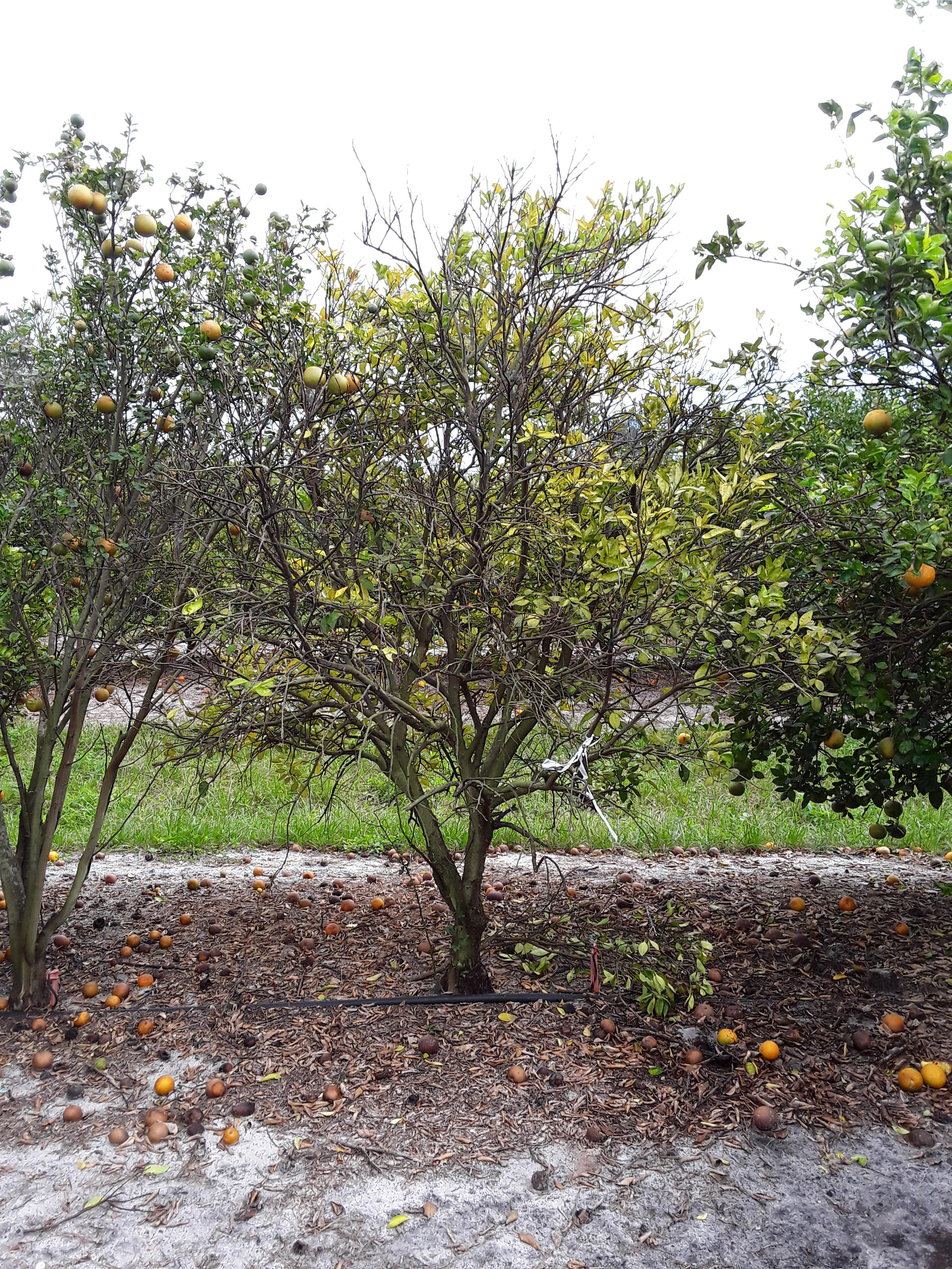fruit_on_ground: (859, 406, 893, 445), (903, 560, 938, 592), (66, 178, 94, 212), (133, 210, 159, 240), (822, 725, 849, 753), (876, 735, 902, 763), (88, 191, 114, 216), (326, 372, 350, 399), (93, 392, 119, 416), (301, 361, 325, 387), (171, 211, 193, 237), (156, 257, 178, 282), (155, 413, 178, 436), (242, 462, 271, 480), (240, 245, 263, 267), (200, 317, 221, 341), (45, 401, 65, 426), (343, 370, 361, 396), (97, 537, 120, 557), (882, 799, 905, 819), (355, 505, 378, 524), (0, 256, 18, 280), (888, 821, 908, 841), (714, 668, 733, 689), (868, 821, 889, 840), (198, 344, 220, 362), (833, 594, 856, 611), (1, 176, 22, 194), (0, 785, 15, 810), (15, 456, 32, 478), (806, 788, 829, 804), (70, 107, 86, 130), (146, 384, 165, 403), (728, 779, 747, 798), (844, 791, 863, 810), (2, 185, 21, 204), (242, 262, 259, 283), (242, 289, 259, 310), (189, 389, 208, 407), (66, 536, 84, 555), (94, 686, 111, 706), (99, 591, 115, 612), (26, 695, 44, 713), (100, 238, 117, 257), (253, 182, 273, 198), (128, 309, 144, 327), (831, 797, 847, 814), (95, 594, 110, 612), (101, 679, 116, 697), (63, 157, 78, 175), (73, 318, 91, 333), (18, 689, 34, 705), (676, 732, 693, 747), (267, 209, 286, 222), (273, 219, 292, 232), (227, 521, 241, 538), (367, 300, 382, 315), (74, 126, 87, 142), (240, 205, 254, 219), (59, 131, 72, 145), (71, 575, 82, 591), (0, 313, 12, 327)
fruit_on_tree: (752, 1102, 781, 1134), (920, 1062, 947, 1093), (895, 1067, 922, 1098), (692, 995, 718, 1027), (201, 1075, 228, 1101), (146, 1121, 172, 1146), (151, 1073, 177, 1097), (144, 1103, 173, 1124), (415, 1034, 440, 1057), (852, 1033, 875, 1058), (761, 1038, 784, 1063), (219, 1124, 242, 1149), (599, 1014, 620, 1040), (110, 981, 134, 1003), (680, 1045, 702, 1069), (180, 1106, 210, 1123), (79, 978, 101, 1001), (135, 1015, 158, 1037), (886, 1012, 906, 1037), (230, 1098, 257, 1116), (715, 1031, 736, 1053), (530, 1169, 552, 1190), (784, 1028, 804, 1051), (322, 1084, 345, 1104), (111, 1127, 131, 1150), (838, 893, 860, 913), (508, 1062, 526, 1086), (63, 1105, 84, 1125), (414, 936, 436, 955), (29, 1015, 51, 1034), (583, 1123, 602, 1145), (124, 929, 144, 949), (34, 1050, 54, 1070), (423, 1199, 439, 1224), (324, 919, 343, 940), (91, 910, 108, 933), (707, 965, 725, 986), (315, 1049, 333, 1070), (186, 1120, 206, 1138), (298, 936, 319, 953), (792, 932, 811, 950), (46, 848, 63, 868), (54, 935, 74, 952), (71, 1011, 91, 1028), (63, 1025, 80, 1045), (68, 1082, 88, 1099), (92, 1055, 109, 1074), (217, 1058, 236, 1075), (175, 911, 194, 927), (136, 939, 152, 958), (549, 1068, 565, 1087), (192, 960, 213, 974), (300, 868, 318, 884), (250, 877, 268, 893), (640, 1033, 658, 1049), (93, 846, 108, 865), (789, 895, 804, 914), (895, 920, 910, 939), (711, 925, 730, 940), (218, 961, 233, 980), (85, 1028, 100, 1047), (103, 995, 123, 1009), (98, 1028, 112, 1048), (289, 837, 304, 855), (618, 894, 636, 909), (195, 948, 213, 963), (301, 953, 319, 968), (762, 928, 784, 940), (404, 874, 422, 888), (593, 1024, 607, 1042), (369, 898, 388, 911), (207, 923, 226, 936), (339, 898, 359, 910), (105, 871, 119, 888), (280, 930, 297, 944), (745, 935, 762, 949), (2, 946, 16, 963), (487, 890, 505, 903), (381, 894, 399, 907), (196, 979, 217, 990), (315, 857, 334, 869), (185, 876, 199, 892), (288, 889, 302, 905), (140, 977, 154, 993), (562, 1002, 576, 1018), (146, 930, 166, 941), (142, 849, 156, 864), (807, 873, 822, 887), (876, 844, 892, 857), (200, 874, 213, 890), (430, 900, 446, 913), (238, 1037, 261, 1046), (735, 919, 752, 931), (158, 937, 175, 949), (631, 878, 645, 892), (411, 869, 424, 884), (888, 871, 901, 886), (120, 945, 135, 958), (929, 855, 945, 867), (563, 887, 579, 899), (301, 897, 317, 909), (705, 845, 722, 856), (497, 841, 510, 855), (592, 845, 606, 858), (620, 870, 633, 884), (536, 1064, 549, 1078), (251, 865, 266, 877), (577, 897, 592, 909), (336, 1197, 351, 1209), (331, 877, 347, 888), (2, 995, 13, 1011), (896, 848, 913, 858), (406, 902, 423, 912), (673, 843, 686, 856), (347, 849, 360, 862), (590, 900, 603, 913), (578, 843, 592, 855), (700, 907, 714, 919), (549, 914, 563, 926), (2, 894, 13, 909), (365, 870, 375, 886), (687, 844, 699, 857), (499, 874, 511, 887), (484, 884, 497, 896), (217, 870, 231, 881), (229, 904, 240, 918), (485, 842, 497, 854), (481, 879, 493, 891), (242, 854, 253, 867), (515, 888, 528, 899), (698, 865, 712, 875), (281, 868, 295, 878), (513, 839, 522, 854), (493, 879, 504, 891), (387, 845, 397, 858), (421, 872, 434, 882), (661, 890, 674, 900), (764, 841, 778, 850), (492, 842, 501, 856), (912, 844, 924, 854), (718, 884, 730, 894), (571, 845, 580, 858), (318, 880, 330, 889), (452, 850, 462, 860), (391, 852, 401, 862), (418, 855, 429, 864), (153, 884, 164, 893), (55, 859, 66, 867), (402, 850, 411, 859), (529, 879, 539, 887)
